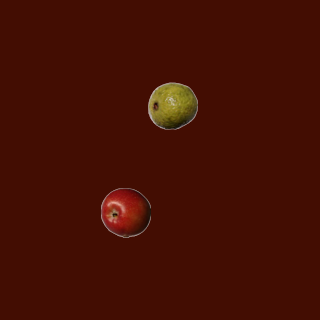Apple Braeburn: (100, 187, 150, 237)
Guava: (147, 80, 197, 130)
